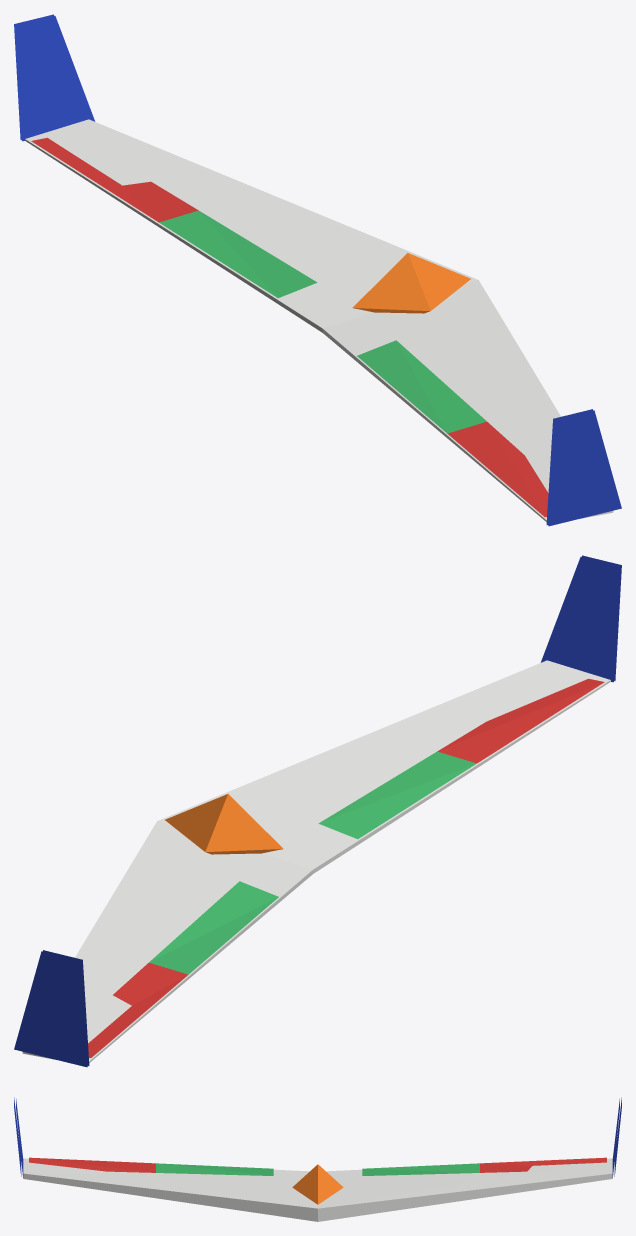
Rendered from SM_Glider_Placeholder.obj.
3 views of the same model, one above another, from view 1: azimuth 30°, elevation 25°; view 2: azimuth 150°, elevation 25°; view 3: azimuth 270°, elevation 25° (orthographic). The views are drawn at different scales.
Visible parts, largest first — view 1: SM_Glider_Placeholder; view 2: SM_Glider_Placeholder; view 3: SM_Glider_Placeholder.
Boxes of the visible parts, x1,y1,x2,y2 form: SM_Glider_Placeholder: (14,14,621,526); SM_Glider_Placeholder: (14,555,621,1067); SM_Glider_Placeholder: (14,1097,621,1221).
Bounding box in the file's own units: 1.37 × 0.87 × 6.6.
Materials: 1 (1 with a texture image).
